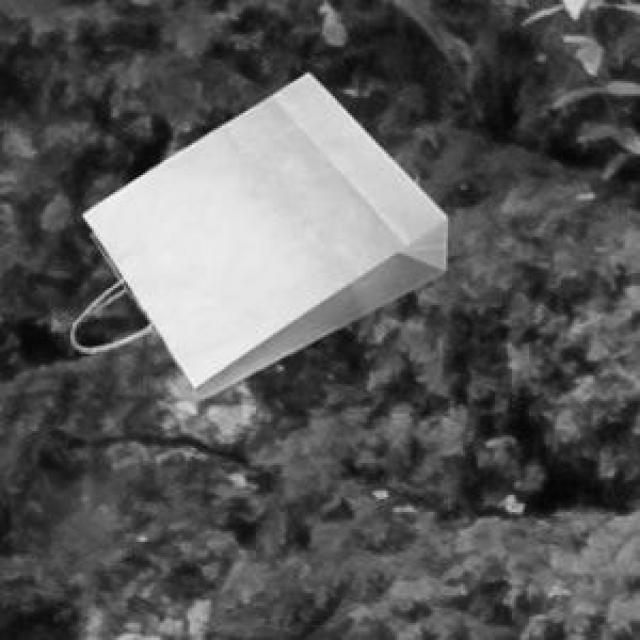paper: (69, 70, 444, 395)
